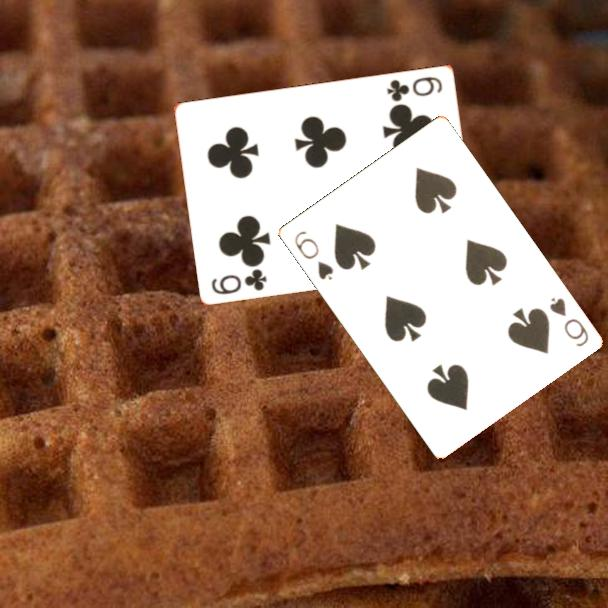c06: (208, 265, 270, 297), (384, 73, 445, 104)
s06: (290, 227, 336, 283), (546, 294, 591, 350)
